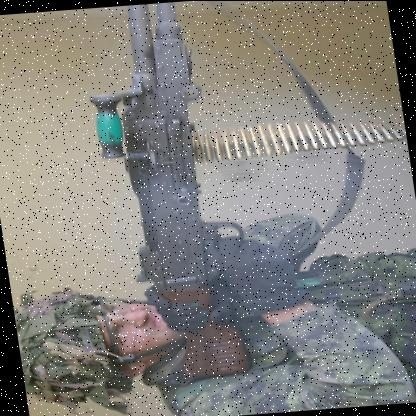rifle: (88, 0, 262, 370)
